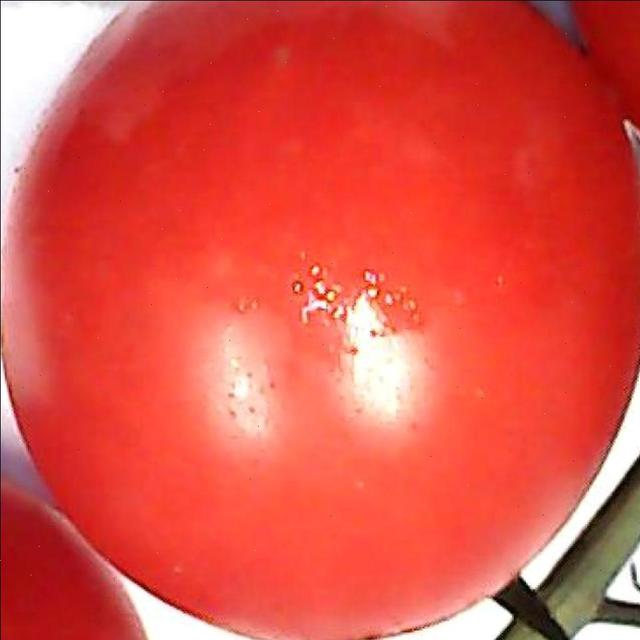Healthy Fruit: (5, 0, 427, 424)
